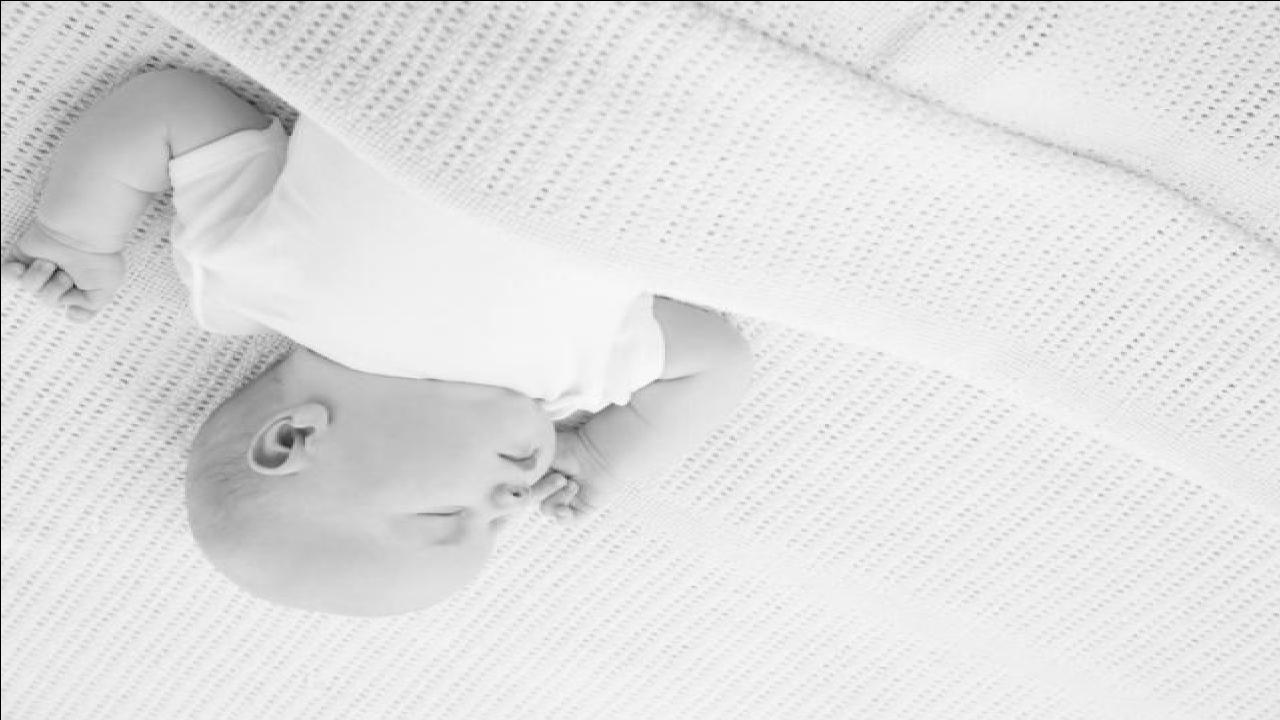hand: (0, 218, 145, 330), (536, 432, 616, 526)
